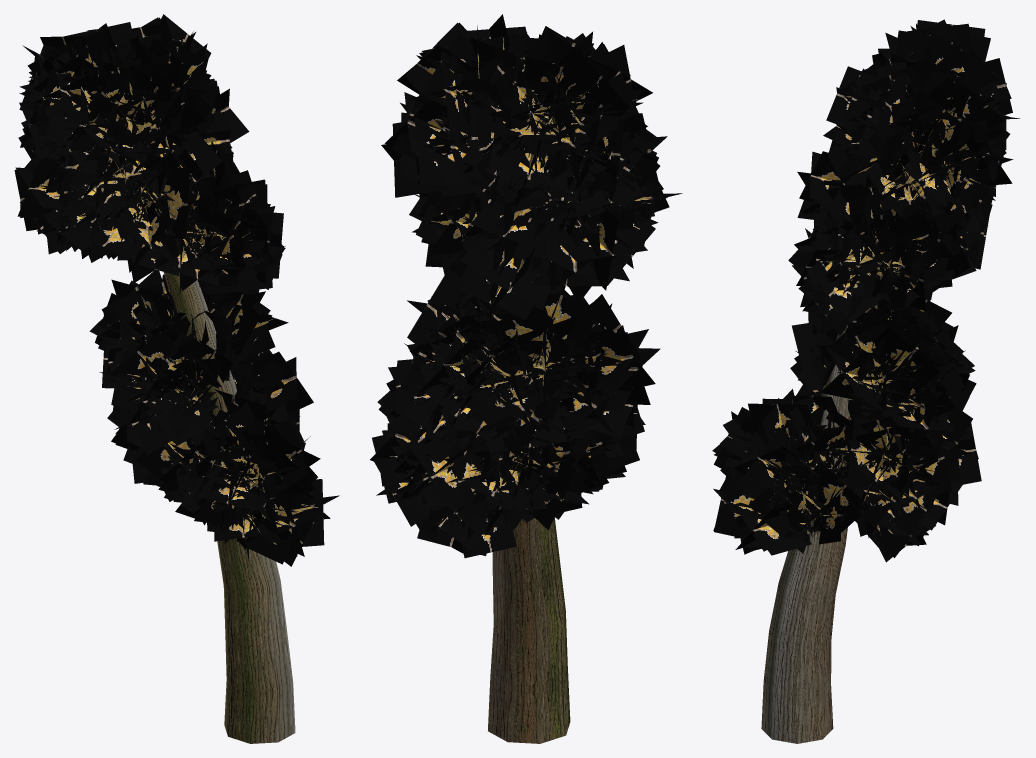
File: eztree-sugar-maple-stand-b.glb
3 renders of one model, left to right at view 1: azimuth 30°, elevation 25°; view 2: azimuth 150°, elevation 25°; view 3: azimuth 270°, elevation 25°, orthographic. The views are drawn at different scales.
Visible parts, largest first — view 1: eztree-sugar-maple-stand-b; view 2: eztree-sugar-maple-stand-b; view 3: eztree-sugar-maple-stand-b.
Part boxes in pixels (x1,y1,x2,y2): eztree-sugar-maple-stand-b: [14, 14, 339, 743]; eztree-sugar-maple-stand-b: [370, 14, 682, 743]; eztree-sugar-maple-stand-b: [712, 19, 1019, 743].
Size of the model in its own units: 22.68 by 56.5 by 24.12.
Materials: 2 (2 with a texture image).
